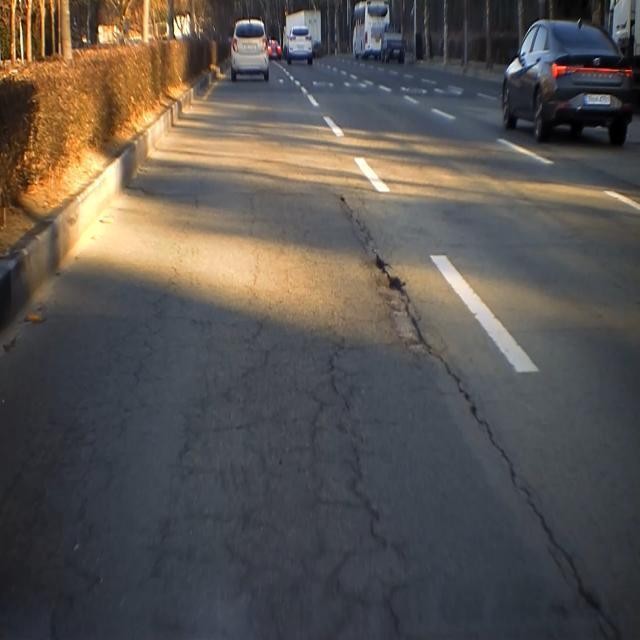Buraco: (369, 252, 410, 299)
